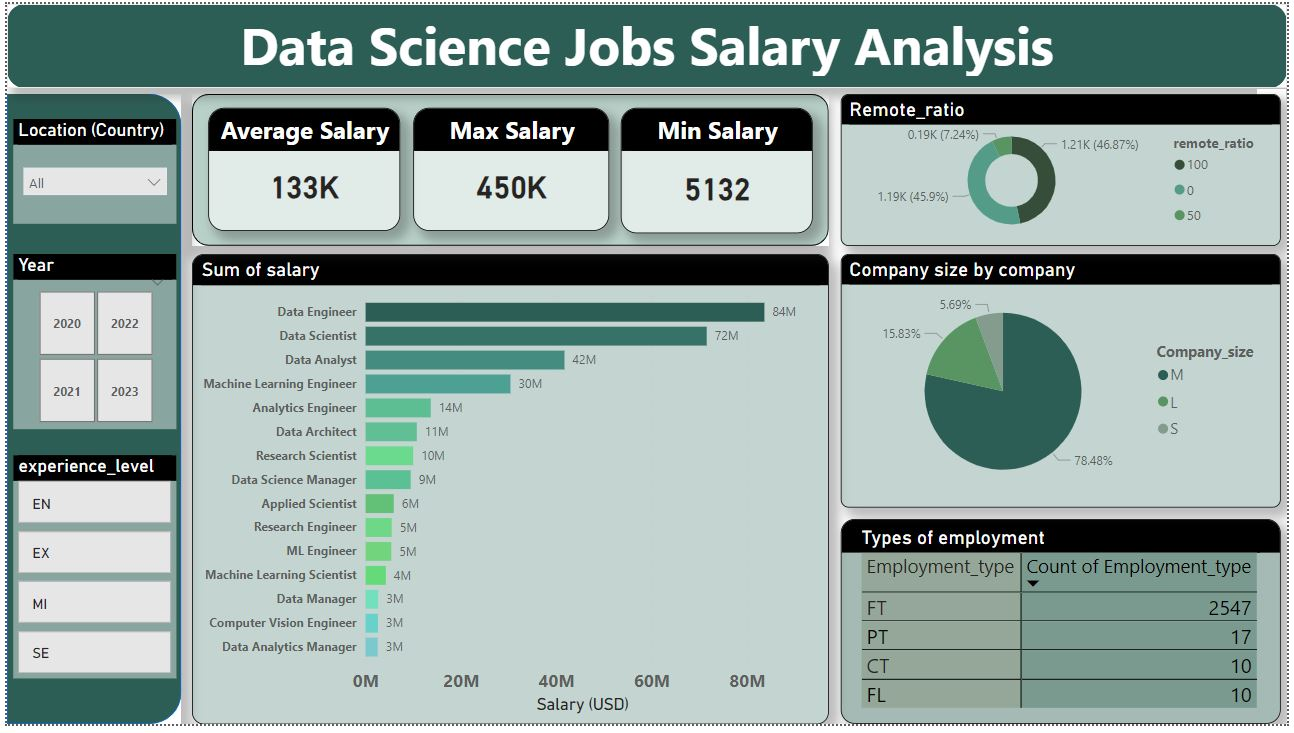

The dashboard page shown, as its layout file describes it:
{"tool":"powerbi","page":{"name":"Dashboard","canvas":[1280,720],"ordinal":0},"visuals":[{"type":"shape","box":[185,90,636.7,151.7],"z":0,"group":"g1"},{"type":"shape","box":[0,90,174.3,630],"z":0},{"type":"card","title":"Average Salary","fields":{"Values":["ds_salaries.Average_Salary"]},"box":[201.1,104.3,191.7,123.1],"z":1000,"group":"g1"},{"type":"slicer","title":"Location (Country)","fields":{"Values":["ds_salaries.company_location"]},"box":[6.7,115,163.3,105],"z":1000},{"type":"card","title":"Max Salary","fields":{"Values":["ds_salaries.Max_salary"]},"box":[405.7,104.3,196,123.1],"z":2000,"group":"g1"},{"type":"slicer","title":"Year","fields":{"Values":["ds_salaries.work_year"]},"box":[6.7,250,163.3,175],"z":2000},{"type":"card","title":"Min Salary","fields":{"Values":["ds_salaries.Min_salary"]},"box":[613.2,104.3,191.7,125.9],"z":3000,"group":"g1"},{"type":"clusteredBarChart","title":"Sum of salary","fields":{"Category":["ds_salaries.job_title"],"Y":["Sum(ds_salaries.salary_in_usd)"]},"box":[185,250,636.7,470],"z":3000},{"type":"advancedSlicerVisual","fields":{"Values":["ds_salaries.experience_level"]},"box":[6.7,451.7,163.3,223.3],"z":4000},{"type":"group","id":"g1","title":"Group 1","box":[185,90,636.7,151.7],"z":5000},{"type":"pivotTable","title":"Types of employment","fields":{"Rows":["ds_salaries.employment_type"],"Values":["CountNonNull(ds_salaries.employment_type)"]},"box":[833.3,515,440,205],"z":6000},{"type":"pieChart","title":"Company size by company","fields":{"Category":["ds_salaries.company_size"],"Y":["CountNonNull(ds_salaries.company_size)"]},"box":[833.3,250,440,253.3],"z":7000},{"type":"shape","title":"Data ","box":[0,0,1280,84.3],"z":8000},{"type":"donutChart","title":"Remote_ratio","fields":{"Category":["ds_salaries.remote_ratio"],"Y":["CountNonNull(ds_salaries.remote_ratio)"]},"box":[833.3,90,440,151.7],"z":9000}]}

Visuals, with their boxes in screenshot pixels (x1, y1, x2, y2), scaled from the page's 1280x720 canvas onto the 1294x733 screenshot:
shape: 187:92:831:246
shape: 0:92:176:732
"Average Salary" card: 203:106:397:232
"Location (Country)" slicer: 7:117:172:224
"Max Salary" card: 410:106:608:232
"Year" slicer: 7:255:172:433
"Min Salary" card: 620:106:814:234
"Sum of salary" clusteredBarChart: 187:255:831:732
advancedSlicerVisual - ds_salaries.experience_level: 7:460:172:687
"Group 1" group: 187:92:831:246
"Types of employment" pivotTable: 842:524:1287:732
"Company size by company" pieChart: 842:255:1287:512
"Data " shape: 0:0:1293:86
"Remote_ratio" donutChart: 842:92:1287:246
